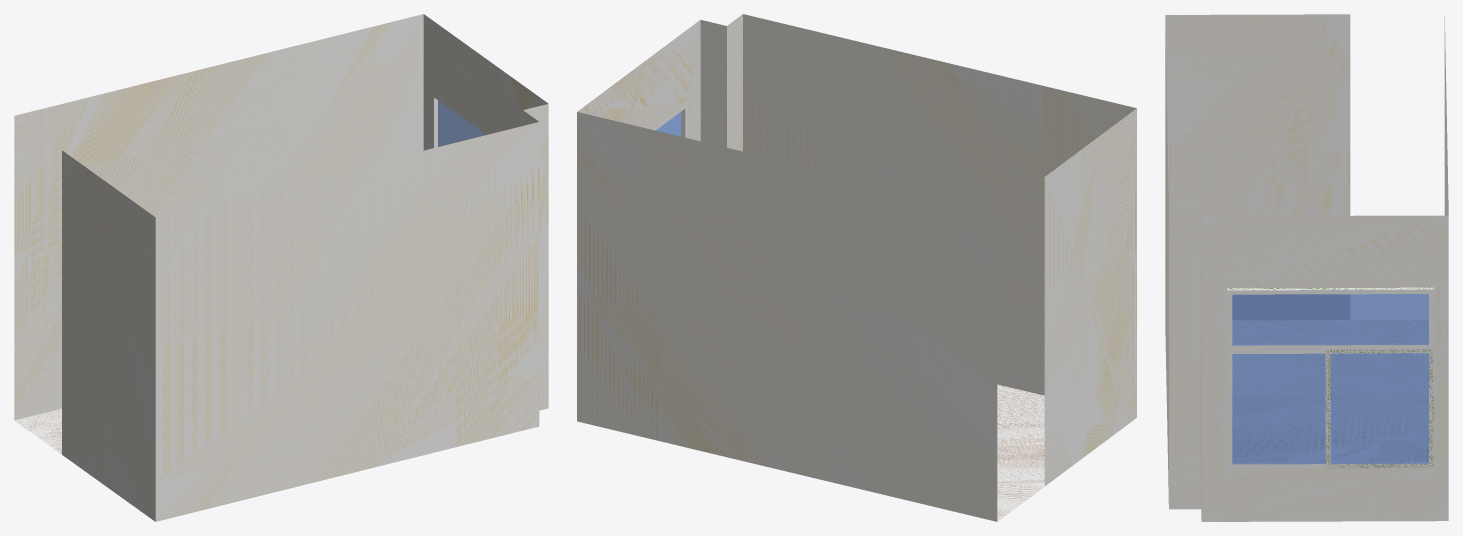
File: DES009.obj
3 views of the same model, side by side, from view 1: azimuth 30°, elevation 25°; view 2: azimuth 150°, elevation 25°; view 3: azimuth 270°, elevation 25° (orthographic).
Parts seen in each view (by area): view 1: Mesh7 DES009 Model, Mesh1 ventana1_2_1 DES009 Model; view 2: Mesh7 DES009 Model, Mesh1 ventana1_2_1 DES009 Model; view 3: Mesh7 DES009 Model, Mesh1 ventana1_2_1 DES009 Model.
Part boxes in pixels (x1=…): Mesh7 DES009 Model: x1=14, y1=14, x2=548, y2=521; Mesh1 ventana1_2_1 DES009 Model: x1=431, y1=91, x2=489, y2=148; Mesh7 DES009 Model: x1=577, y1=14, x2=1136, y2=521; Mesh1 ventana1_2_1 DES009 Model: x1=651, y1=102, x2=687, y2=138; Mesh7 DES009 Model: x1=1165, y1=14, x2=1448, y2=521; Mesh1 ventana1_2_1 DES009 Model: x1=1227, y1=287, x2=1433, y2=468.
Bounding box in the file's own units: 5.16 × 3.6 × 3.03.
7 materials, 1 textured.
